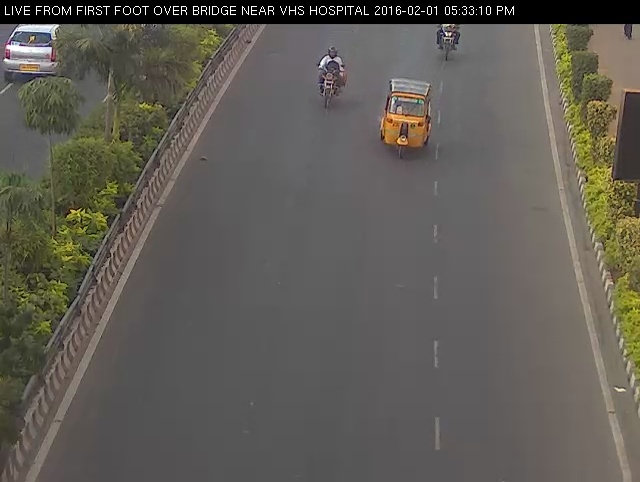Auto: (371, 70, 437, 167)
Person: (302, 33, 356, 121), (433, 14, 463, 65)
